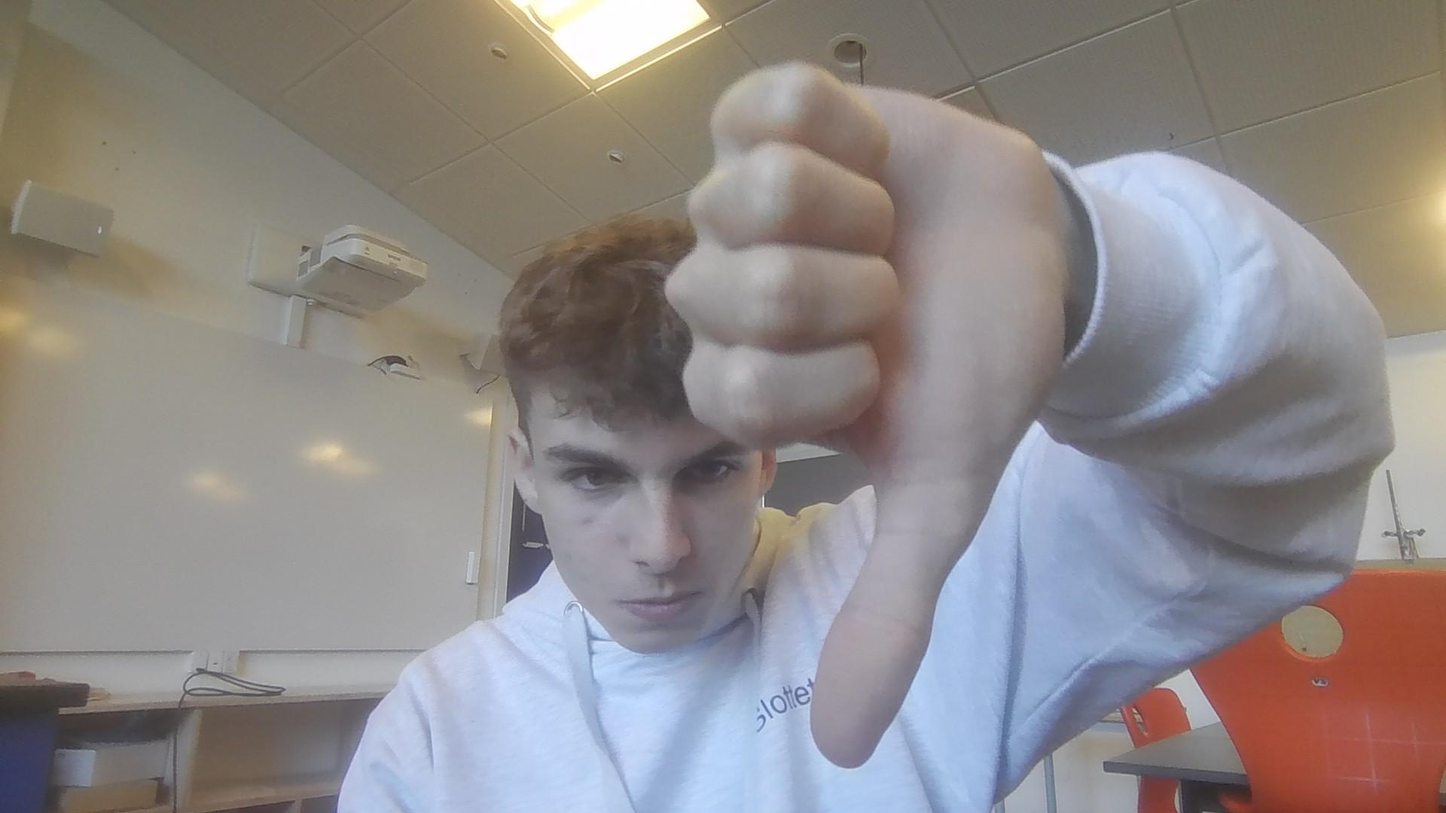thumbs down: (670, 62, 1076, 775)
